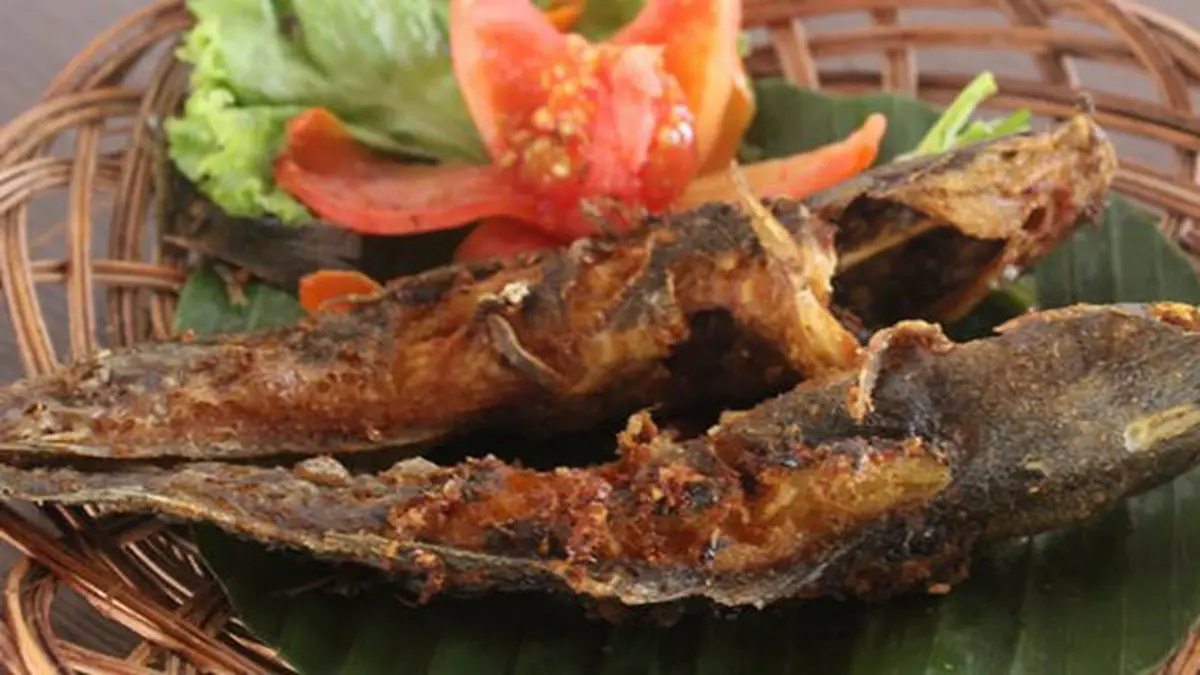pecel_lele: (66, 300, 1195, 610)
